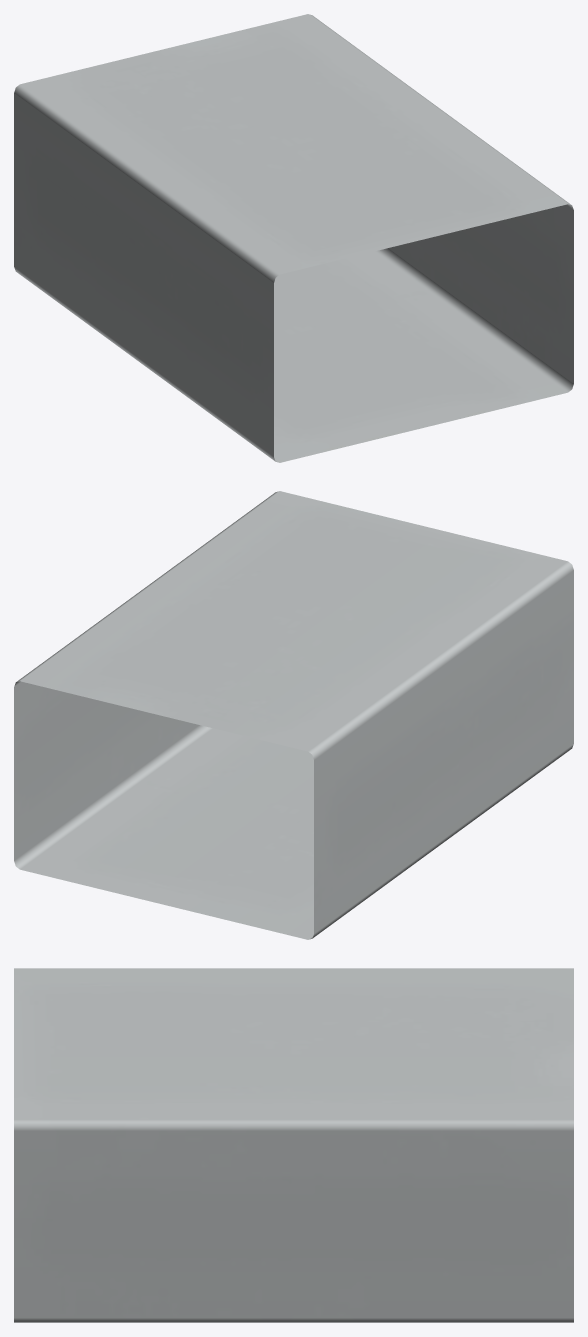
The model's file is Vent1.glb.
The picture shows the model from 3 angles, top to bottom: view 1: azimuth 30°, elevation 25°; view 2: azimuth 150°, elevation 25°; view 3: azimuth 270°, elevation 25°; orthographic projection. The views are drawn at different scales.
Visible parts, largest first — view 1: defaultMaterial.014; view 2: defaultMaterial.014; view 3: defaultMaterial.014.
Part boxes in pixels (box(x1,y1,x2,y2)): defaultMaterial.014: box(14, 14, 573, 462); defaultMaterial.014: box(14, 491, 573, 939); defaultMaterial.014: box(14, 968, 573, 1322).
Bounding box in the file's own units: 2 × 1.2 × 3.
Materials: 1 (1 with a texture image).
